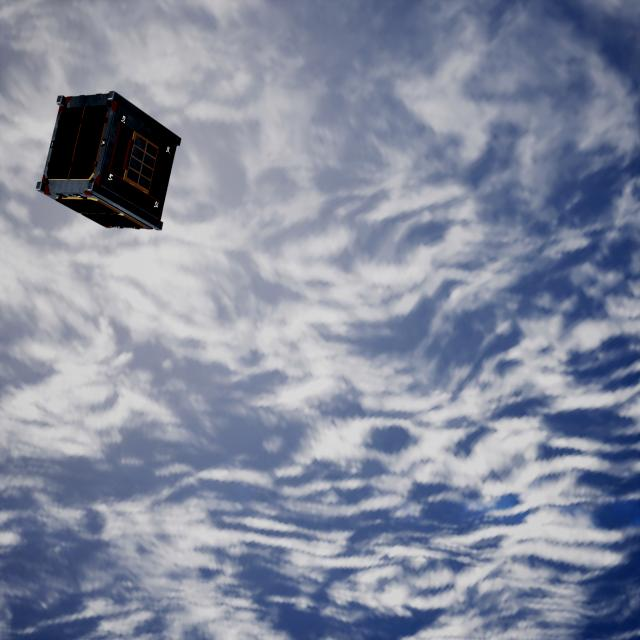satellite: (35, 80, 187, 232)
